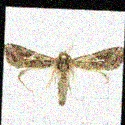Spodoptera litura: (3, 29, 122, 106)
